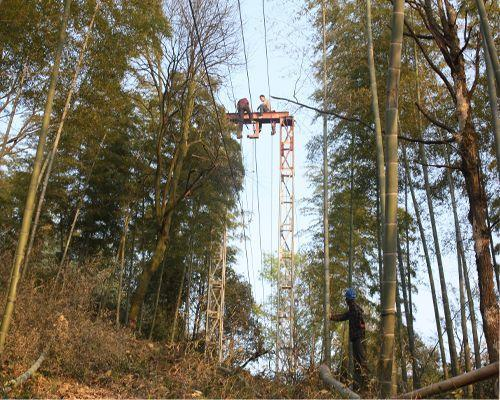helmet: (345, 286, 359, 306)
